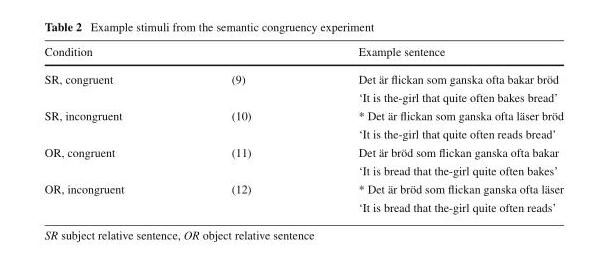table: (43, 44, 563, 213)
table column: (304, 44, 563, 213), (43, 44, 177, 213), (177, 44, 304, 213)
table column header: (43, 44, 563, 64)
table row: (43, 64, 563, 87), (43, 44, 563, 64), (43, 87, 563, 106), (43, 142, 563, 161), (43, 106, 563, 124), (43, 124, 563, 142), (43, 161, 563, 179), (43, 179, 563, 197), (43, 197, 563, 213)
table spanning cell: (43, 64, 177, 106), (177, 64, 304, 106), (43, 142, 177, 179), (43, 106, 177, 142), (177, 142, 304, 179), (177, 106, 304, 142), (43, 179, 177, 213), (177, 179, 304, 213)
